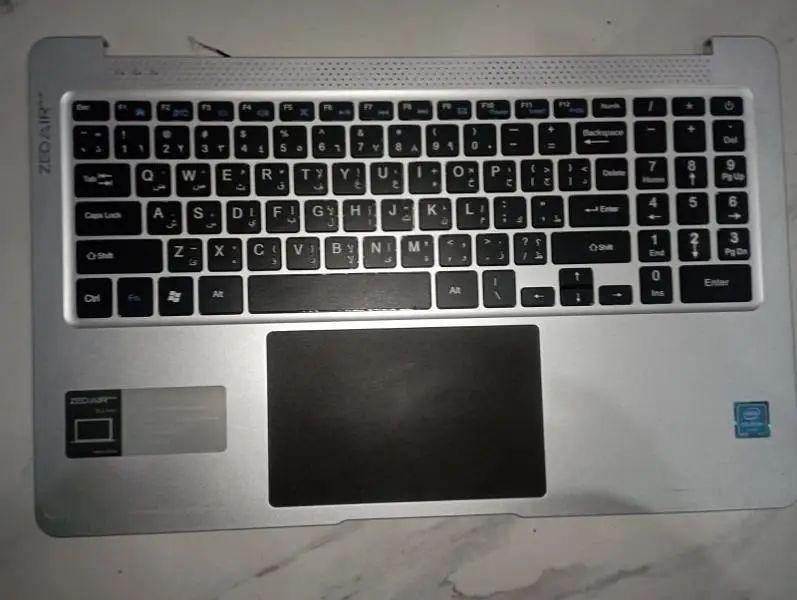electronic: (21, 27, 797, 545)
